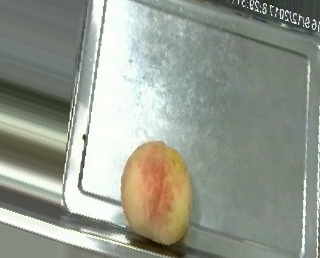Peach: (120, 139, 193, 245)
